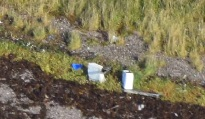scattered_barrel: (67, 56, 136, 92)
straight_bar: (121, 88, 162, 102)
